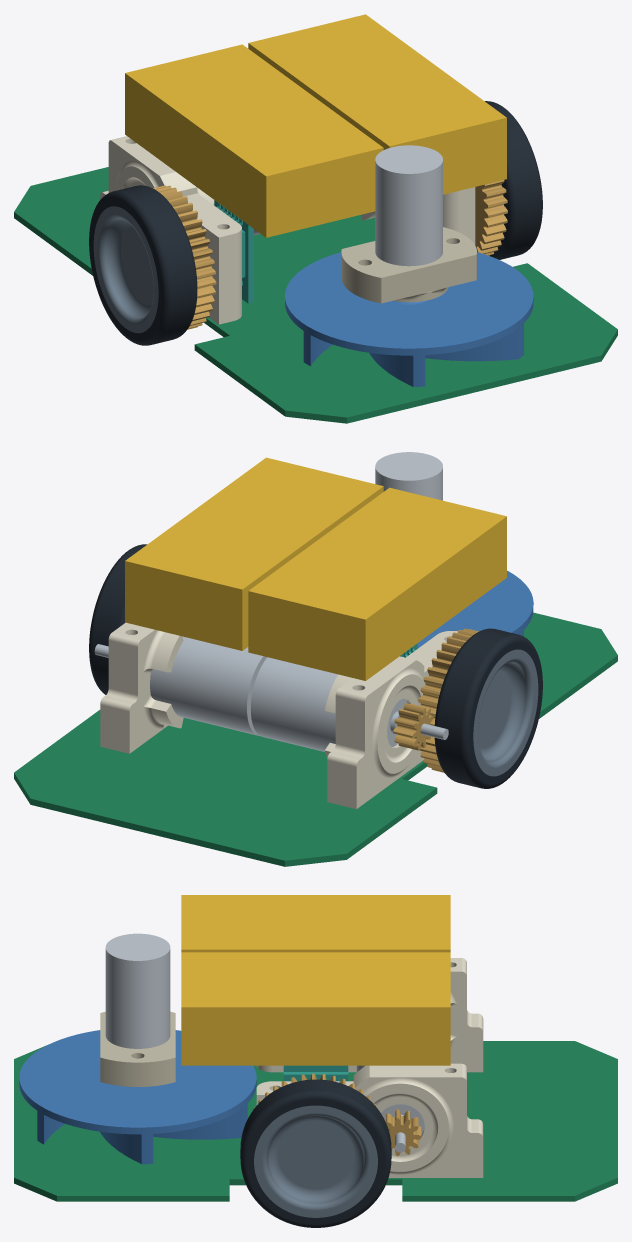
Rendered from assembly-a04.glb.
The picture shows the model from 3 angles, top to bottom: view 1: azimuth 30°, elevation 25°; view 2: azimuth 150°, elevation 25°; view 3: azimuth 270°, elevation 25°; orthographic projection. The views are drawn at different scales.
Visible parts, largest first — view 1: 063_pcb, 064_battery, 065_battery, 062_fan, 060_fan_motor, 003_tire, 027_mount, 061_fan_mount, 002_wheel, 033_tire, 004_gear, 034_gear (+2 smaller); view 2: 063_pcb, 064_battery, 065_battery, 027_mount, 003_tire, 059_mount, 030_motor, 000_motor, 002_wheel, 062_fan, 033_tire, 060_fan_motor (+2 smaller); view 3: 063_pcb, 065_battery, 062_fan, 064_battery, 032_wheel, 059_mount, 033_tire, 060_fan_motor, 061_fan_mount, 027_mount, 031_gear, 030_motor (+2 smaller).
Part boxes in pixels (left/top/right/bottom): 063_pcb: left=14, top=167, right=617, bottom=423; 064_battery: left=125, top=44, right=383, bottom=237; 065_battery: left=248, top=14, right=506, bottom=194; 062_fan: left=285, top=252, right=533, bottom=386; 060_fan_motor: left=375, top=145, right=442, bottom=266; 003_tire: left=89, top=185, right=197, bottom=345; 027_mount: left=100, top=136, right=241, bottom=324; 061_fan_mount: left=341, top=227, right=476, bottom=303; 002_wheel: left=93, top=206, right=158, bottom=333; 033_tire: left=485, top=101, right=542, bottom=259; 004_gear: left=153, top=185, right=216, bottom=329; 034_gear: left=475, top=180, right=507, bottom=255; 063_pcb: left=14, top=612, right=617, bottom=866; 064_battery: left=248, top=487, right=506, bottom=680; 065_battery: left=125, top=457, right=383, bottom=650; 027_mount: left=324, top=631, right=457, bottom=809; 003_tire: left=434, top=628, right=542, bottom=788; 059_mount: left=100, top=622, right=183, bottom=753; 030_motor: left=94, top=636, right=267, bottom=736; 000_motor: left=250, top=657, right=448, bottom=751; 002_wheel: left=473, top=649, right=538, bottom=776; 062_fan: left=417, top=570, right=533, bottom=648; 033_tire: left=89, top=544, right=146, bottom=694; 060_fan_motor: left=375, top=452, right=442, bottom=500; 063_pcb: left=14, top=1041, right=617, bottom=1201; 065_battery: left=181, top=952, right=450, bottom=1065; 062_fan: left=19, top=1030, right=256, bottom=1164; 064_battery: left=181, top=895, right=450, bottom=952; 032_wheel: left=254, top=1105, right=377, bottom=1217; 059_mount: left=256, top=1063, right=483, bottom=1177; 033_tire: left=240, top=1079, right=391, bottom=1227; 060_fan_motor: left=105, top=933, right=170, bottom=1048; 061_fan_mount: left=100, top=1011, right=175, bottom=1086; 027_mount: left=257, top=958, right=483, bottom=1072; 031_gear: left=386, top=1109, right=421, bottom=1155; 030_motor: left=356, top=1065, right=424, bottom=1152.
Size of the model in its own units: 38.8 by 19.88 by 56.
